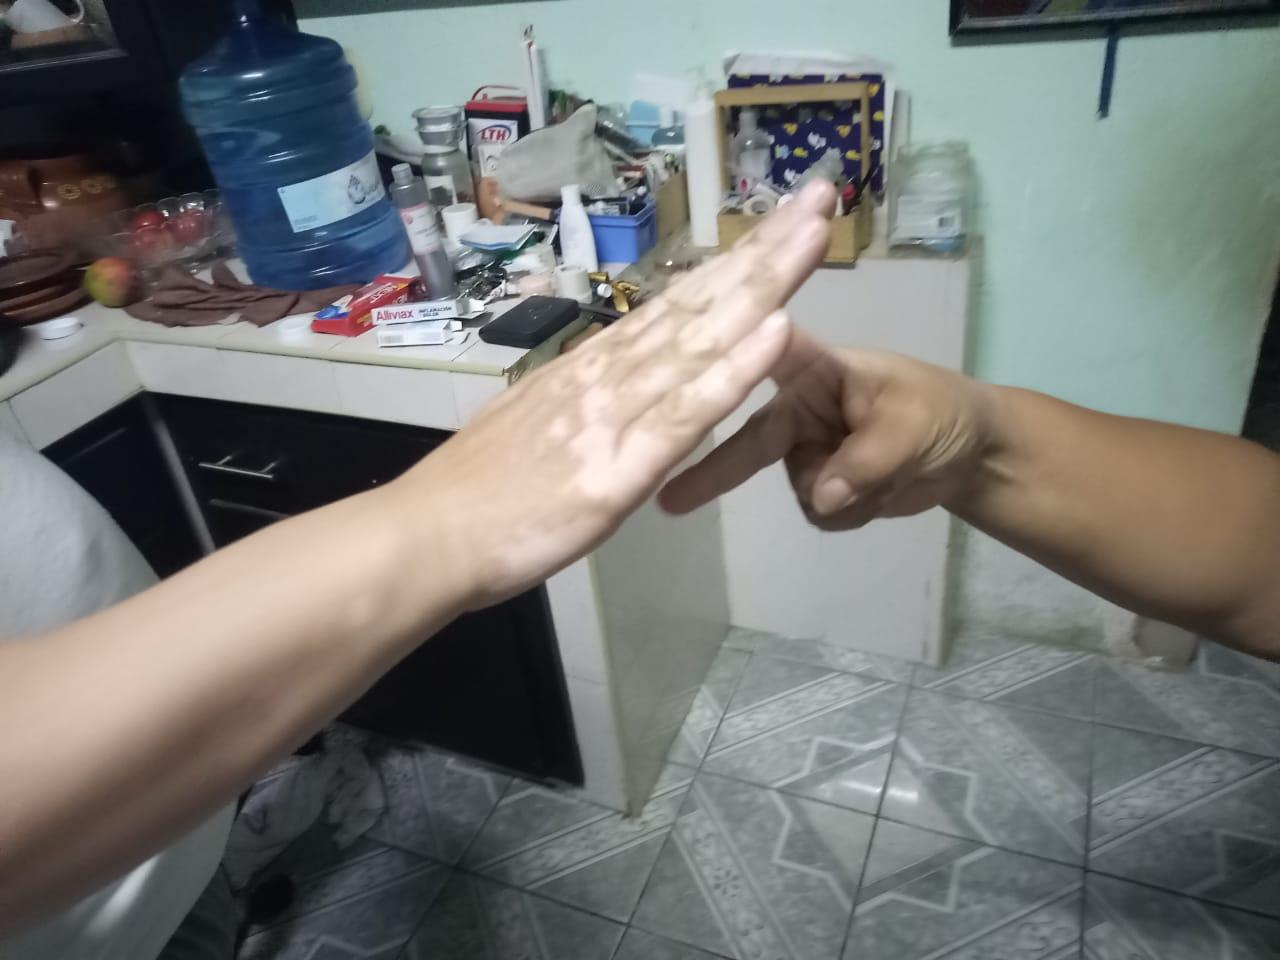Paper: (170, 162, 846, 782)
Scissor: (652, 322, 1076, 568)
